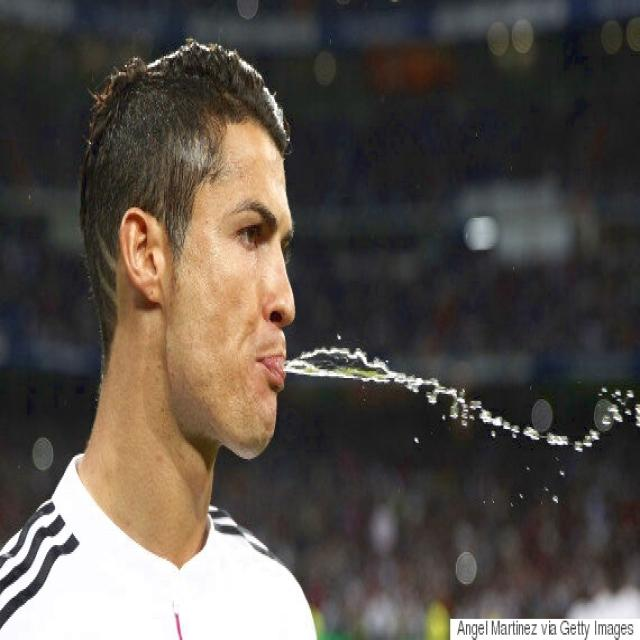Spitting: (67, 38, 348, 516)
